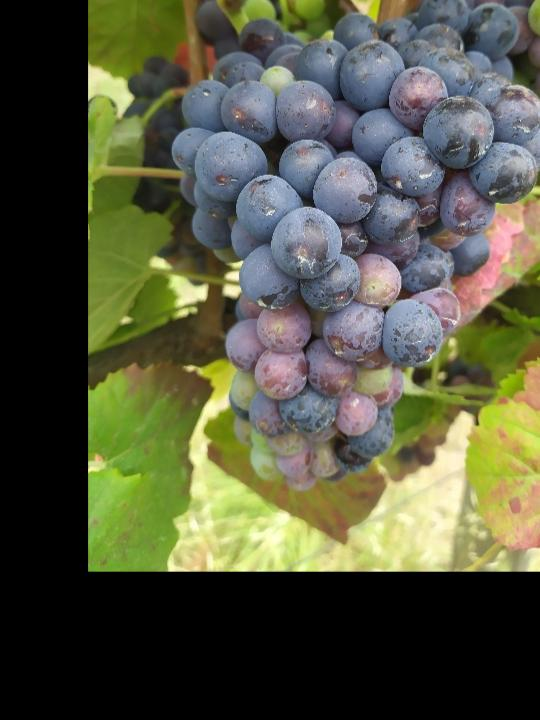grape: (162, 0, 540, 491)
